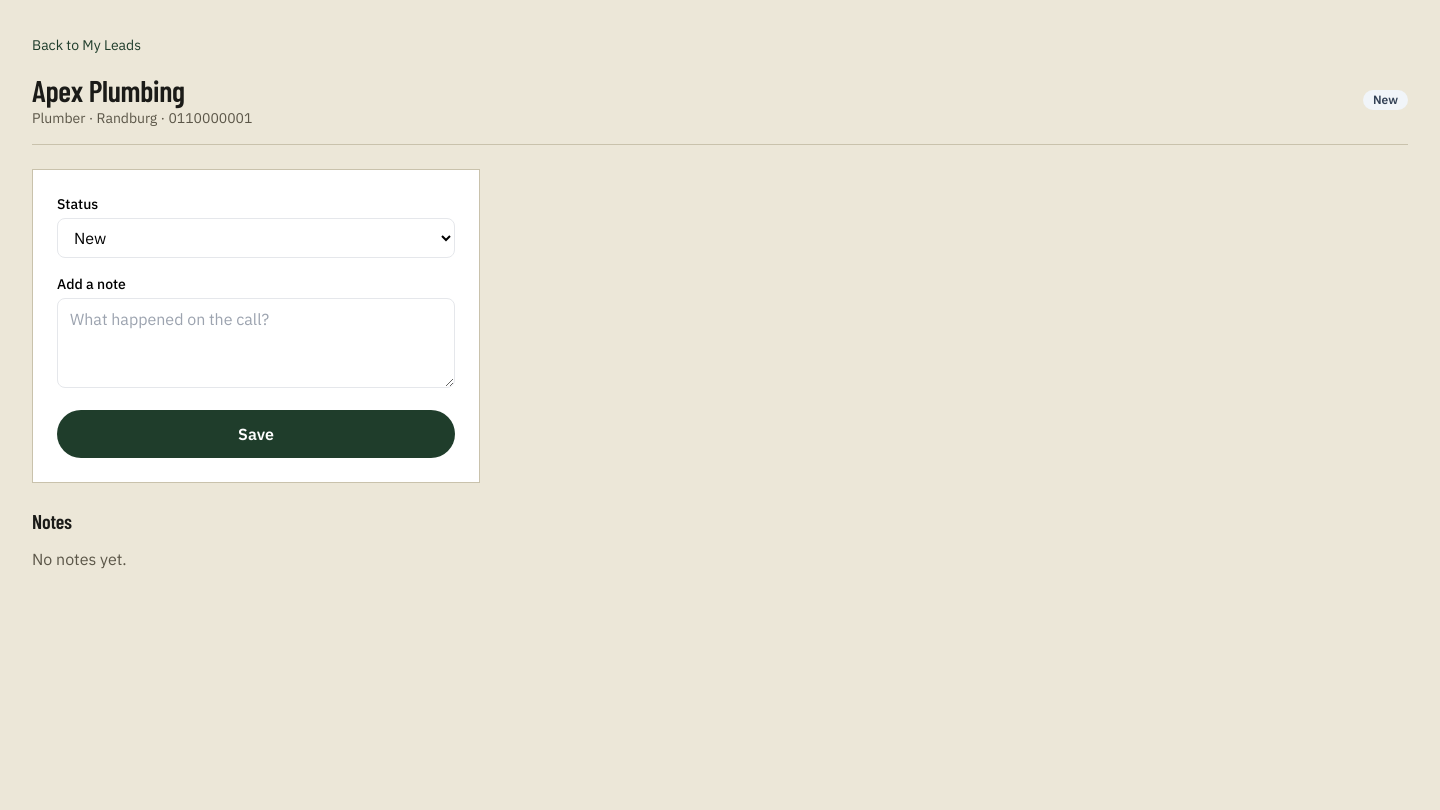
Test case: UpdateStatusScreen › shows an error if saving fails
Expected: the heading "Apex Plumbing" is shown, [32, 72, 185, 108]
Click the button "Save" at {"x": 256, "y": 434}, box [57, 410, 455, 458]
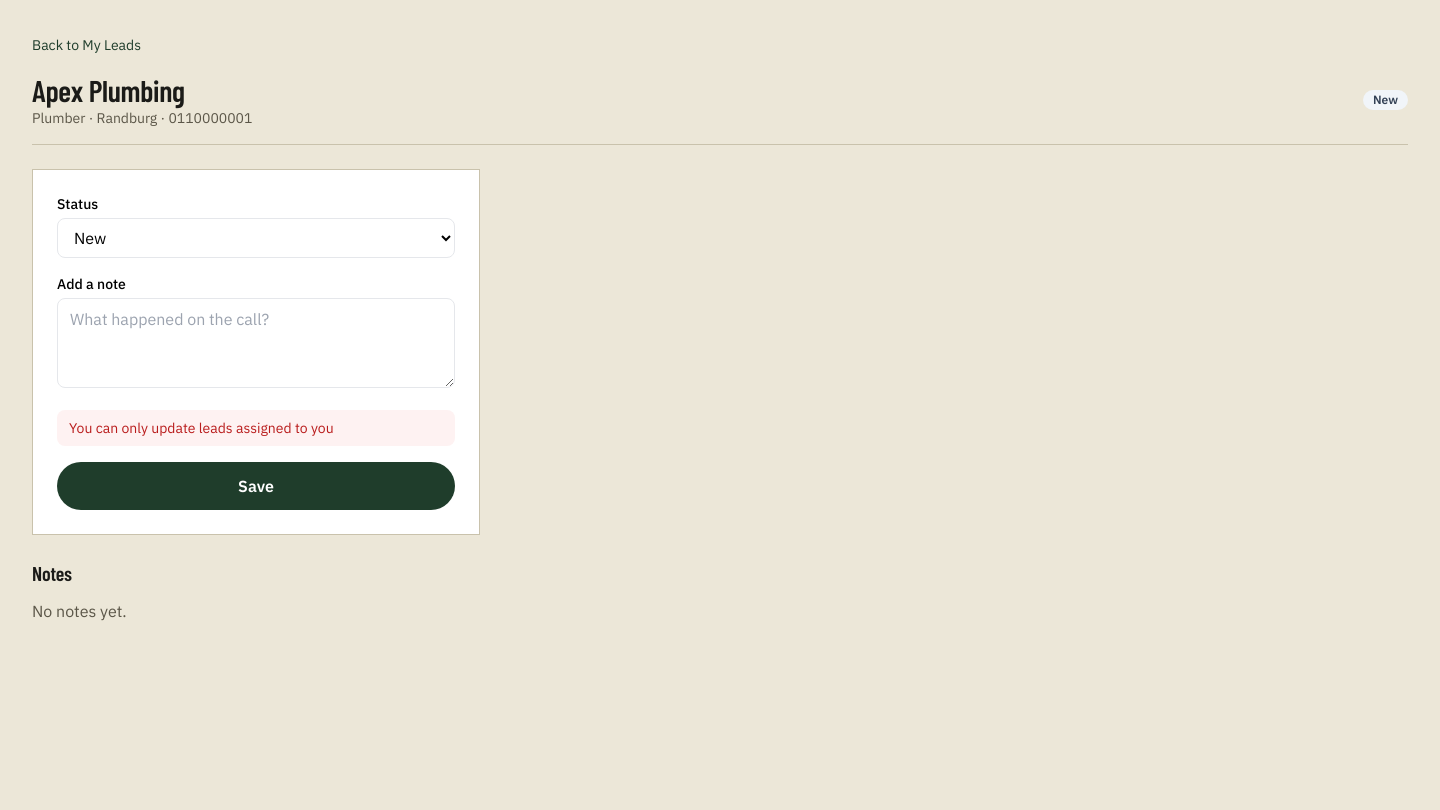
Result: the text "You can only update leads assigned to you" is shown at [57, 410, 455, 446]
